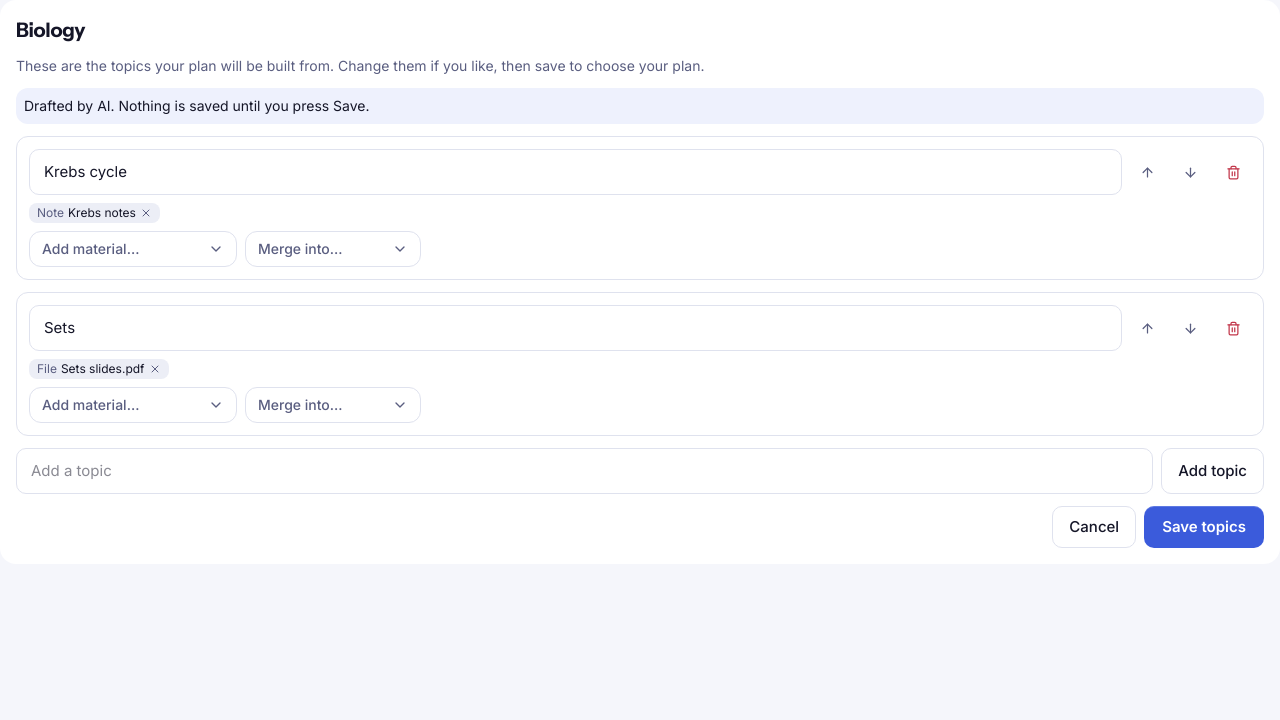
Scenario: PlanCourseFlow › keeps the topics and says so when they cannot be saved
Click the button "Save topics": click(1204, 527) [1144,506,1264,548]
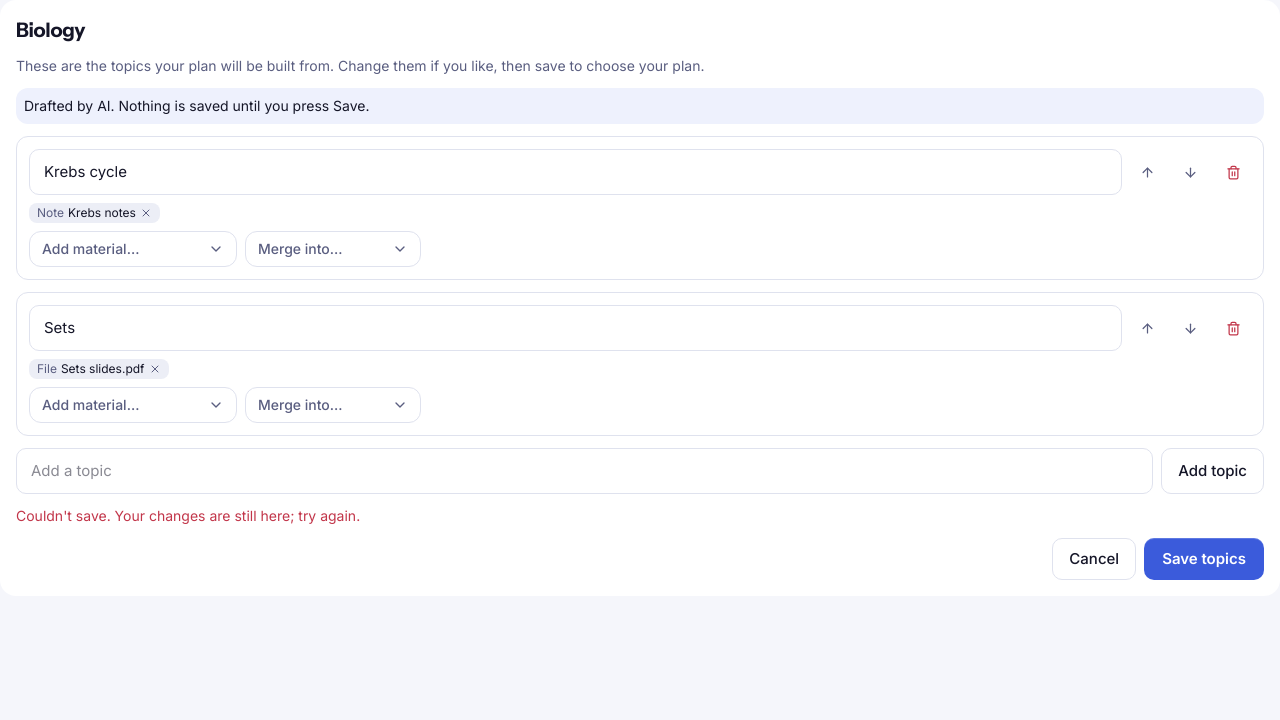
expect the message "Couldn't save. Your changes are still here; try again." is shown: met, box [16,507,360,524]
